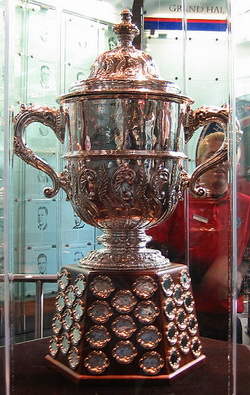trophy: (11, 7, 241, 380)
